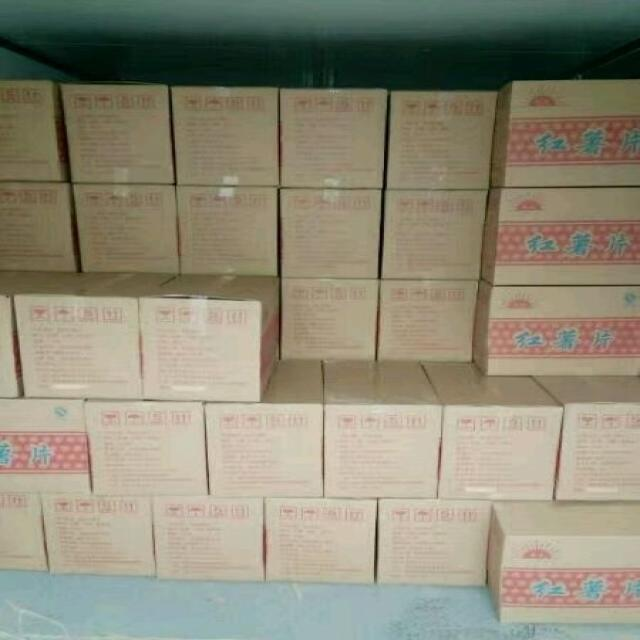box: (10, 268, 184, 398), (422, 359, 564, 502), (489, 502, 639, 625), (137, 275, 282, 402), (322, 358, 444, 499), (207, 355, 325, 497), (473, 276, 639, 375), (492, 80, 639, 189), (479, 186, 639, 286), (536, 374, 639, 501), (85, 397, 211, 496), (58, 83, 174, 188), (381, 91, 496, 189), (168, 86, 278, 186), (0, 267, 85, 396), (64, 181, 181, 273), (278, 90, 387, 188), (266, 492, 380, 585), (273, 186, 386, 279), (376, 186, 490, 278), (152, 495, 266, 582), (378, 498, 490, 585), (42, 495, 157, 579), (176, 184, 278, 276), (0, 397, 94, 495), (282, 277, 383, 361), (375, 278, 476, 360), (0, 78, 69, 181), (3, 180, 79, 269), (0, 493, 48, 570)
